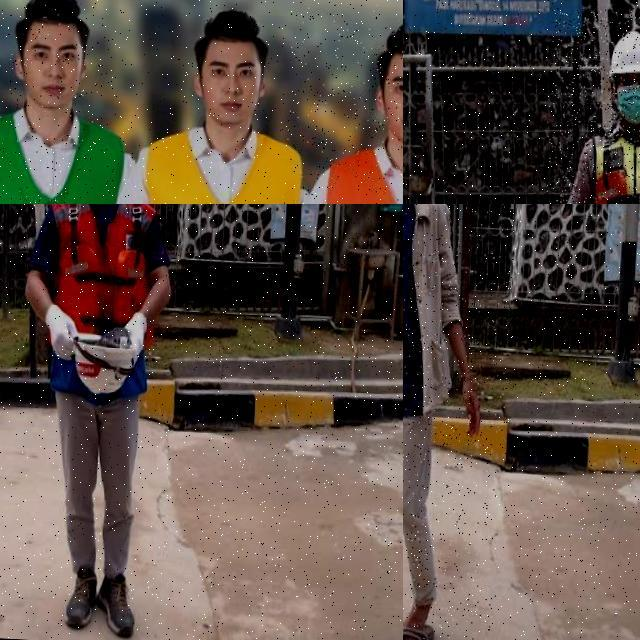boots: (96, 564, 142, 638), (64, 562, 100, 632)
helmet: (70, 328, 136, 402), (604, 28, 640, 78)
vest: (40, 204, 160, 398), (128, 127, 306, 204), (0, 106, 121, 204), (583, 128, 640, 204)
